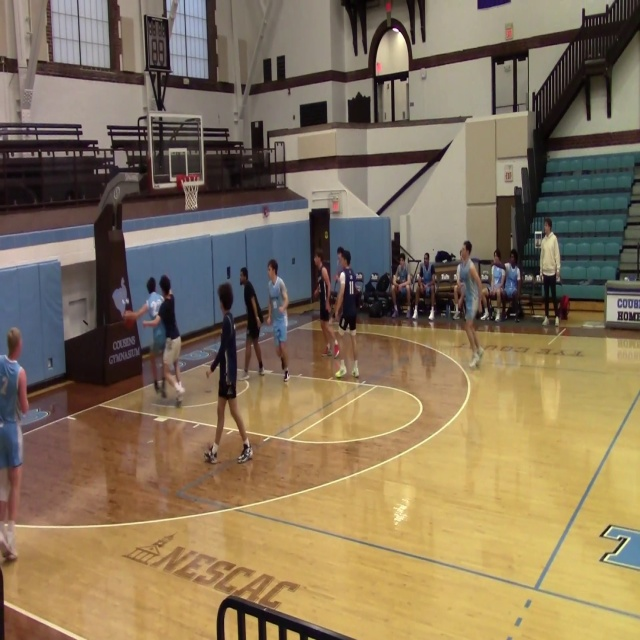Basketball: (218, 282, 233, 310), (123, 310, 136, 330)
